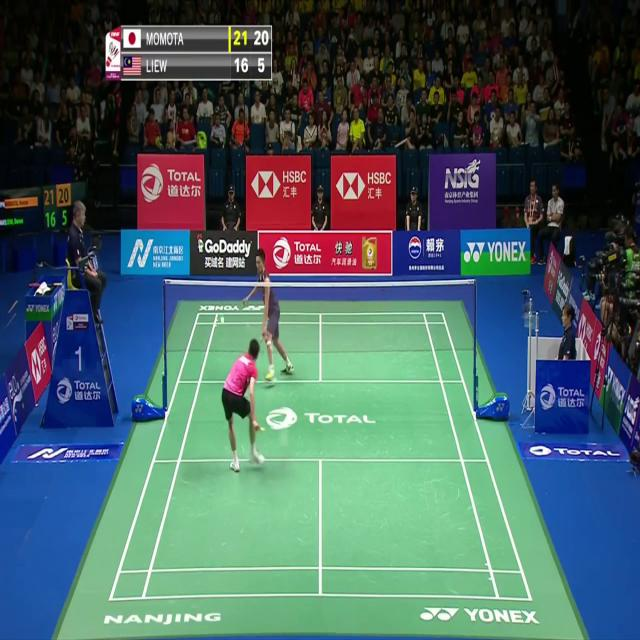Shuttlecock: (219, 314, 226, 326)
